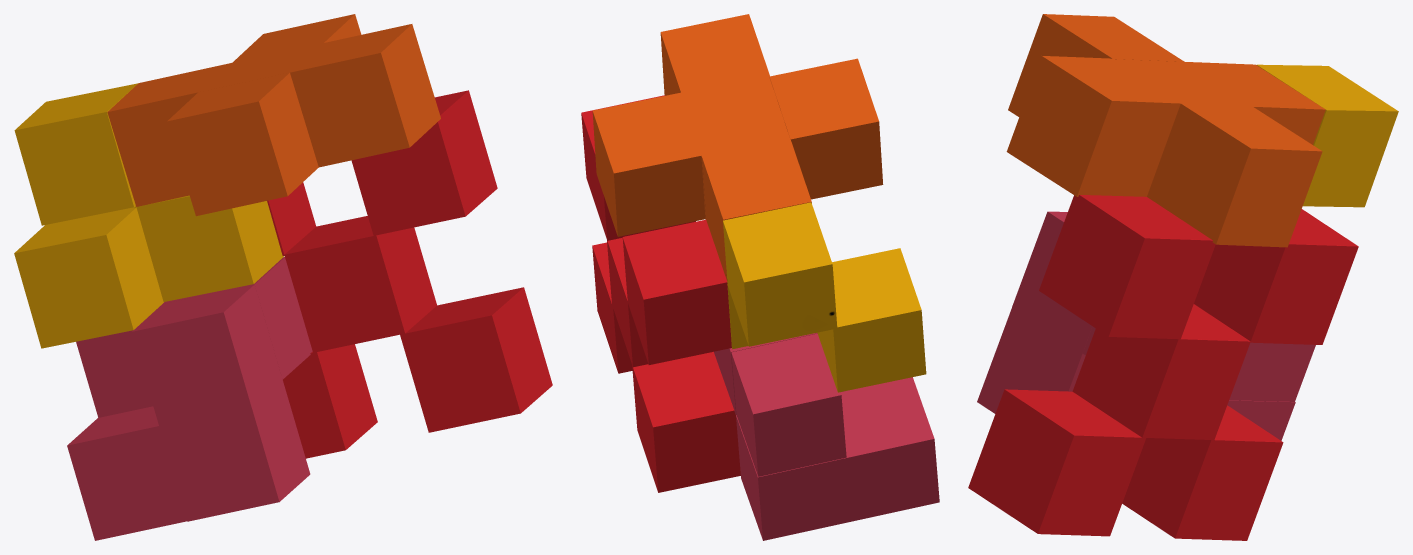
3 renders of one model, left to right at view 1: azimuth 30°, elevation 25°; view 2: azimuth 150°, elevation 25°; view 3: azimuth 270°, elevation 25°, orthographic. The views are drawn at different scales.
Parts seen in each view (by area): view 1: node_id158, node_id77, node_id69, node_id12, node_id121, node_id149, node_id20, node_id131, node_id103, node_id28, node_id112, node_id85 (+6 smaller); view 2: node_id103, node_id93, node_id52, node_id167, node_id140, node_id121, node_id77, node_id28, node_id85, node_id36, node_id69, node_id61 (+5 smaller); view 3: node_id158, node_id131, node_id93, node_id69, node_id149, node_id167, node_id140, node_id103, node_id20, node_id77, node_id85, node_id12 (+3 smaller).
Boxes of the visible parts, x1=… form: node_id158: x1=400, y1=287, x2=552, y2=432; node_id77: x1=167, y1=72, x2=318, y2=216; node_id69: x1=289, y1=24, x2=440, y2=167; node_id12: x1=131, y1=284, x2=282, y2=427; node_id121: x1=14, y1=207, x2=163, y2=348; node_id149: x1=284, y1=216, x2=436, y2=352; node_id20: x1=159, y1=380, x2=310, y2=521; node_id131: x1=351, y1=90, x2=497, y2=235; node_id103: x1=14, y1=83, x2=137, y2=225; node_id28: x1=67, y1=406, x2=186, y2=540; node_id112: x1=134, y1=195, x2=284, y2=301; node_id85: x1=107, y1=63, x2=228, y2=206; node_id103: x1=723, y1=202, x2=837, y2=346; node_id93: x1=592, y1=92, x2=705, y2=236; node_id52: x1=731, y1=333, x2=846, y2=476; node_id167: x1=622, y1=219, x2=731, y2=364; node_id140: x1=632, y1=351, x2=740, y2=492; node_id121: x1=817, y1=248, x2=926, y2=392; node_id77: x1=769, y1=58, x2=883, y2=199; node_id28: x1=840, y1=377, x2=939, y2=521; node_id85: x1=702, y1=139, x2=811, y2=280; node_id36: x1=736, y1=415, x2=851, y2=540; node_id69: x1=660, y1=14, x2=769, y2=95; node_id61: x1=681, y1=77, x2=790, y2=219; node_id158: x1=968, y1=389, x2=1146, y2=536; node_id131: x1=1039, y1=195, x2=1215, y2=339; node_id93: x1=1147, y1=103, x2=1322, y2=247; node_id69: x1=1006, y1=56, x2=1182, y2=196; node_id149: x1=1072, y1=304, x2=1250, y2=439; node_id167: x1=1194, y1=209, x2=1358, y2=344; node_id140: x1=1122, y1=405, x2=1283, y2=540; node_id103: x1=1256, y1=64, x2=1398, y2=207; node_id20: x1=977, y1=307, x2=1085, y2=413; node_id77: x1=1008, y1=14, x2=1183, y2=116; node_id85: x1=1184, y1=61, x2=1325, y2=144; node_id12: x1=1012, y1=211, x2=1092, y2=352.
Bounding box in the file's own units: 0.27 × 0.2754 × 0.2136.
19 materials, 19 textured.
